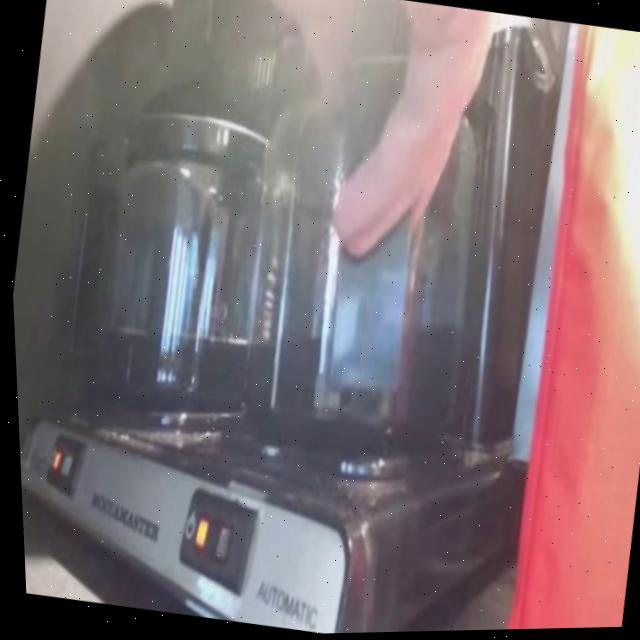coffee: (196, 11, 531, 478), (41, 47, 316, 455)
